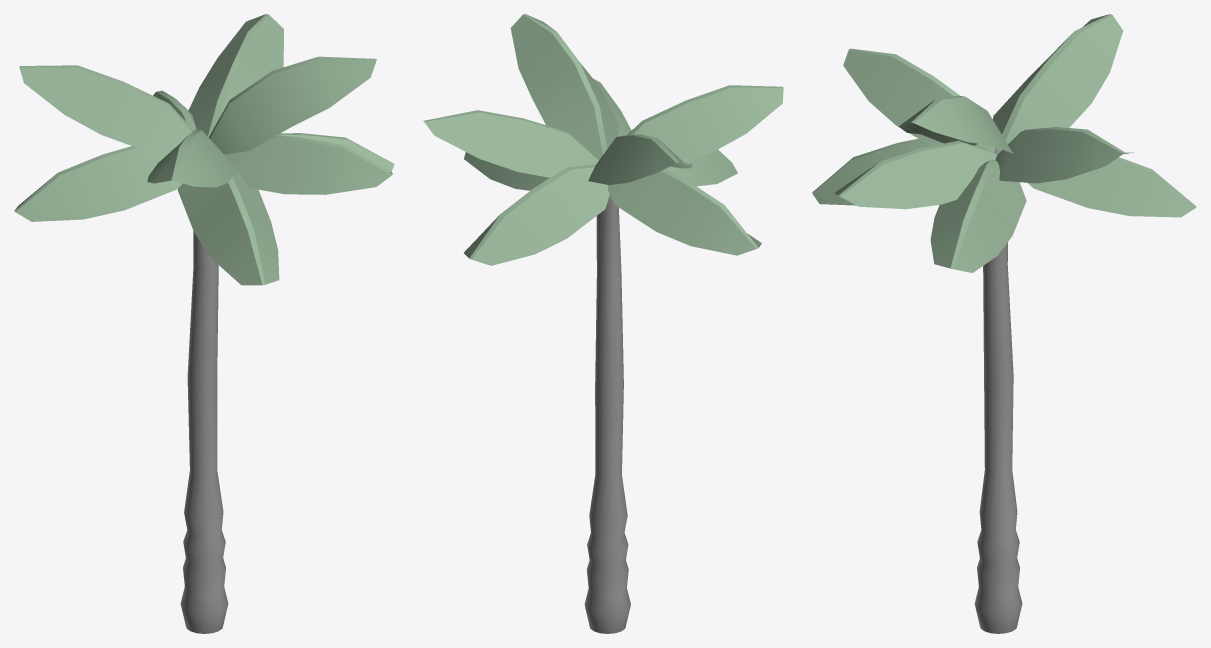
The model's file is full_tree2.fbx.
3 renders of one model, left to right at view 1: azimuth 30°, elevation 25°; view 2: azimuth 150°, elevation 25°; view 3: azimuth 270°, elevation 25°, orthographic. The views are drawn at different scales.
Parts seen in each view (by area): view 1: pCylinder2, pPlane5, pPlane6, pPlane2, pPlane3, pPlane9, pPlane7, pPlane8, pPlane4; view 2: pCylinder2, pPlane5, pPlane1, pPlane3, pPlane7, pPlane8, pPlane6, pPlane2, pPlane4; view 3: pCylinder2, pPlane6, pPlane4, pPlane9, pPlane1, pPlane7, pPlane8, pPlane5, pPlane2.
Part boxes in pixels (x1,y1,x2,y2): pCylinder2: (180,231,228,633); pPlane5: (209,56,376,154); pPlane6: (19,65,193,154); pPlane2: (177,170,279,285); pPlane3: (14,146,182,221); pPlane9: (224,135,392,194); pPlane7: (188,14,283,137); pPlane8: (147,129,237,187); pPlane4: (277,133,394,171); pCylinder2: (584,195,630,633); pPlane5: (510,14,618,159); pPlane1: (464,165,609,265); pPlane3: (608,169,761,255); pPlane7: (423,110,598,177); pPlane8: (627,85,783,169); pPlane6: (588,134,692,184); pPlane2: (665,149,737,186); pPlane4: (464,152,549,190); pCylinder2: (974,147,1022,633); pPlane6: (993,14,1123,143); pPlane4: (930,160,1026,272); pPlane9: (834,140,997,209); pPlane1: (1027,157,1196,217); pPlane7: (995,127,1133,183); pPlane8: (843,48,995,149); pPlane5: (899,95,1013,153); pPlane2: (812,138,995,205).
Size of the model in its own units: 18.5 by 29.67 by 18.2.
